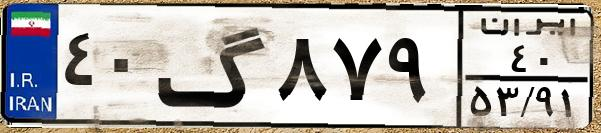0: (110, 28, 156, 98), (537, 27, 568, 80)
1: (560, 70, 590, 125)
3: (495, 70, 520, 125)
4: (57, 26, 110, 100), (508, 27, 537, 80)
5: (470, 70, 495, 125)
7: (330, 28, 385, 110)
8: (270, 28, 330, 110)
9: (385, 28, 445, 110), (535, 70, 560, 125)
گ: (156, 12, 270, 120)
